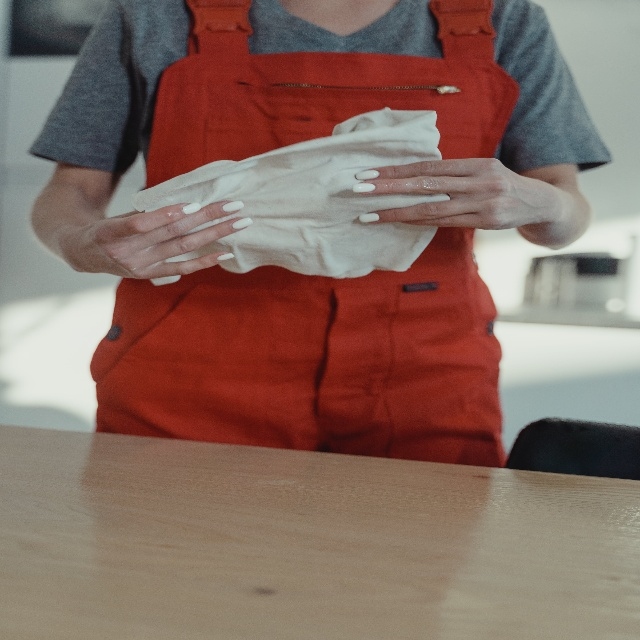Sin_guantes: (76, 199, 253, 280), (352, 157, 543, 230)
